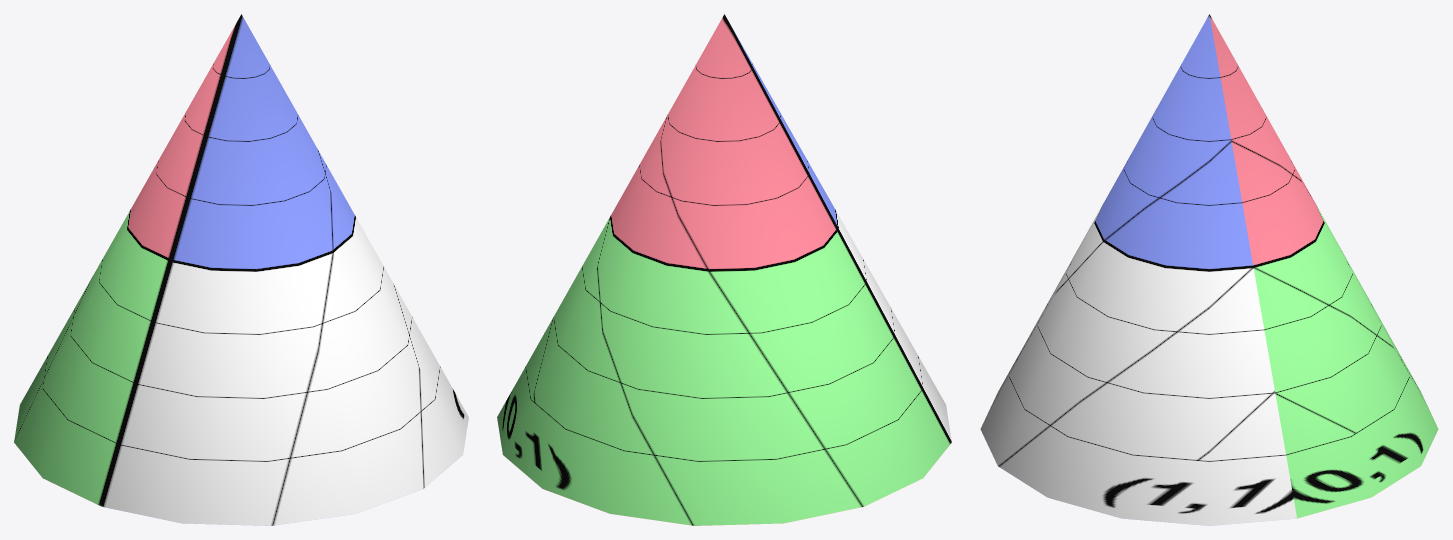
The picture shows the model from 3 angles, left to right: view 1: azimuth 30°, elevation 25°; view 2: azimuth 150°, elevation 25°; view 3: azimuth 270°, elevation 25°; orthographic projection.
Bounding box in the file's own units: 1 × 1 × 1.
